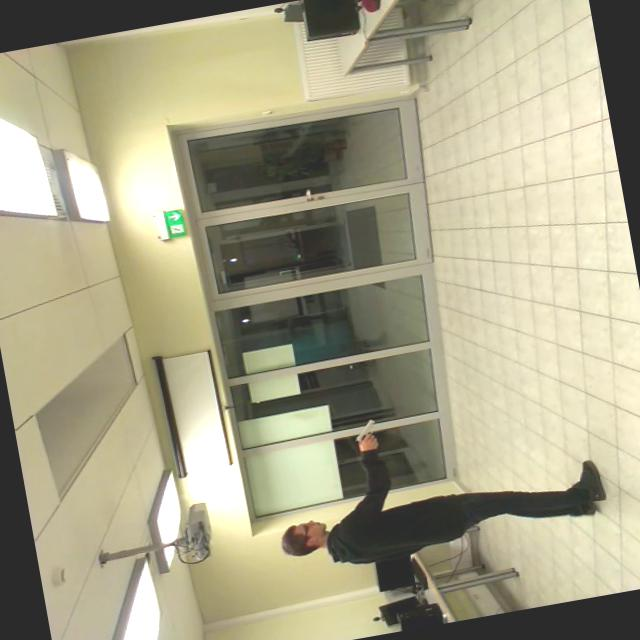handgun: (347, 404, 395, 447)
